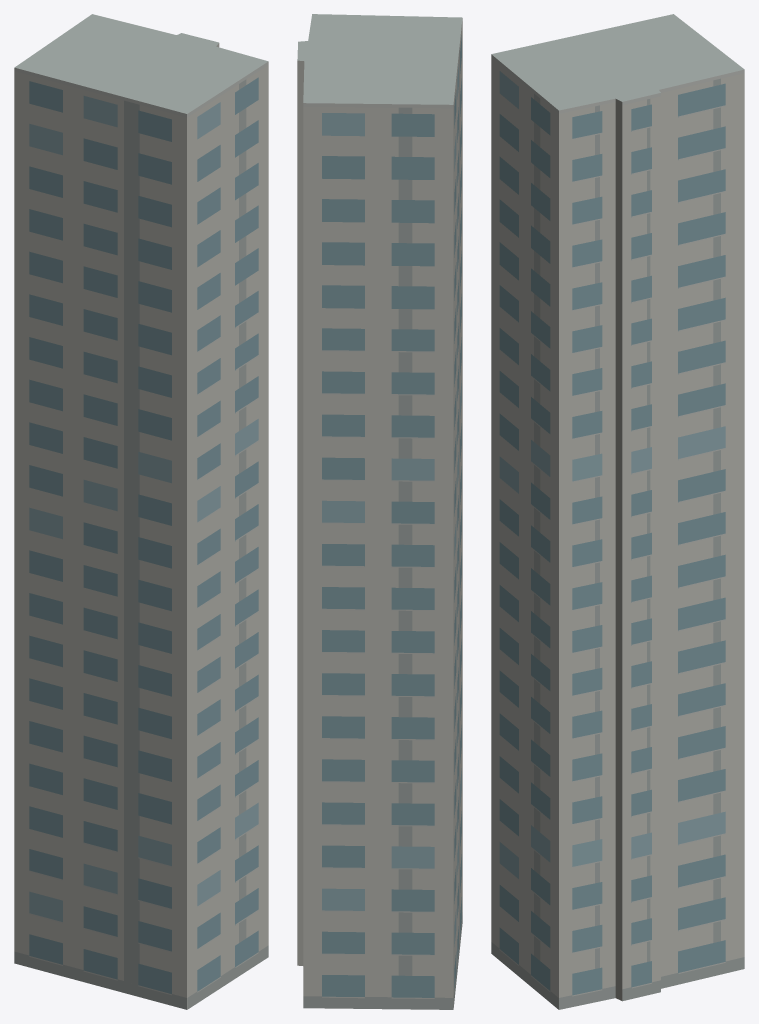
Rendered from survey-upis-32967046.glb.
3 views of the same model, side by side, from view 1: azimuth 30°, elevation 25°; view 2: azimuth 150°, elevation 25°; view 3: azimuth 270°, elevation 25° (orthographic).
Parts seen in each view (by area): view 1: survey-upis-32967046.tmp; view 2: survey-upis-32967046.tmp; view 3: survey-upis-32967046.tmp.
Boxes of the visible parts, bbox=[...] form: survey-upis-32967046.tmp: bbox=[14, 14, 268, 1009]; survey-upis-32967046.tmp: bbox=[297, 14, 462, 1009]; survey-upis-32967046.tmp: bbox=[491, 14, 744, 1009].
Bounding box in the file's own units: 14.75 × 64.05 × 16.37.
